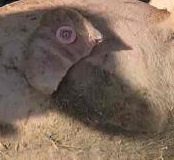text: (46, 17, 84, 52)
